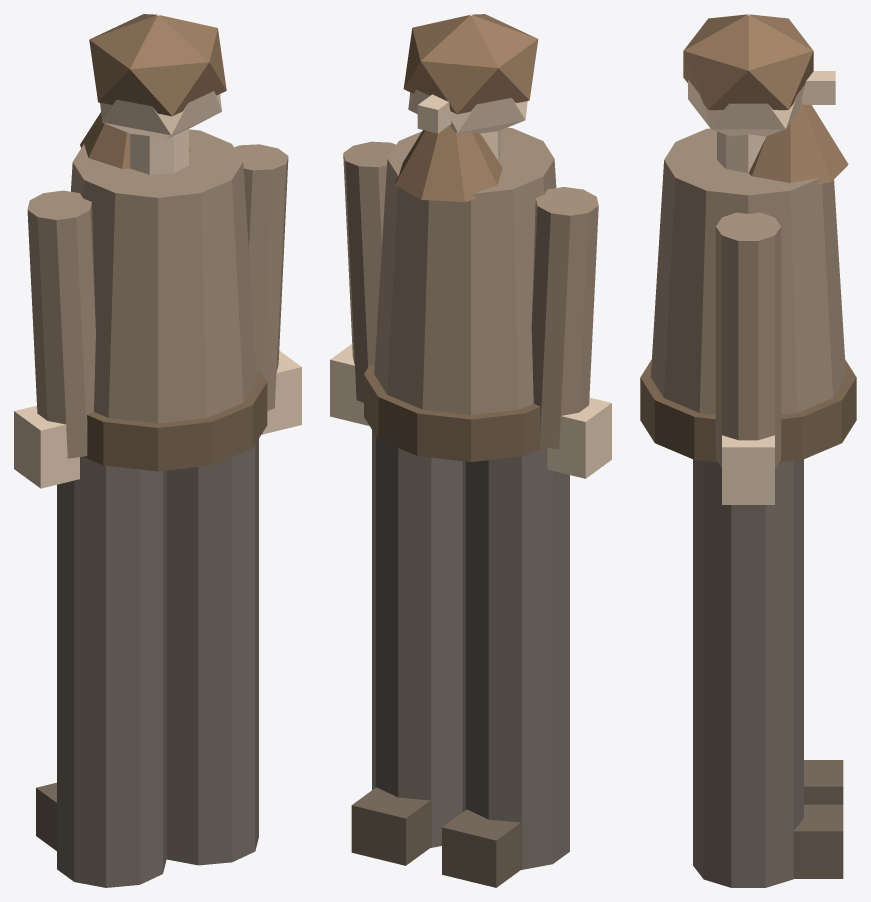
File: peasant_man.glb
3 renders of one model, left to right at view 1: azimuth 30°, elevation 25°; view 2: azimuth 150°, elevation 25°; view 3: azimuth 270°, elevation 25°, orthographic. The views are drawn at different scales.
Visible parts, largest first — view 1: peasant_man; view 2: peasant_man; view 3: peasant_man.
Boxes of the visible parts, <box> form: peasant_man: <box>14,14,301,887</box>; peasant_man: <box>330,14,611,887</box>; peasant_man: <box>640,14,856,887</box>.
Bounding box in the file's own units: 0.565 × 1.74 × 0.41.
